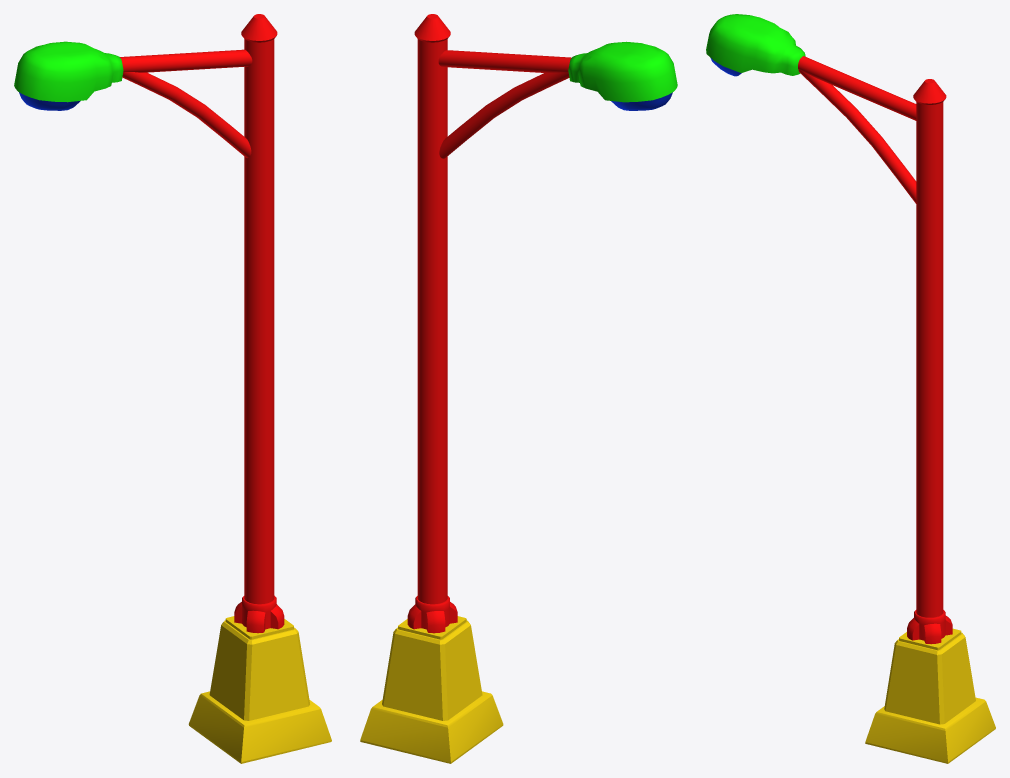
File: ART-MOD-A-STREETLIGHT-001.FBX
3 views of the same model, side by side, from view 1: azimuth 30°, elevation 25°; view 2: azimuth 150°, elevation 25°; view 3: azimuth 330°, elevation 25° (orthographic). The views are drawn at different scales.
Parts seen in each view (by area): view 1: ART-MOD-A-STREETLIGHT-001; view 2: ART-MOD-A-STREETLIGHT-001; view 3: ART-MOD-A-STREETLIGHT-001.
Part boxes in pixels (x1,y1,x2,y2): ART-MOD-A-STREETLIGHT-001: (14,14,331,763); ART-MOD-A-STREETLIGHT-001: (360,14,677,763); ART-MOD-A-STREETLIGHT-001: (706,14,995,763).
Bounding box in the file's own units: 167 × 408 × 52.83.
